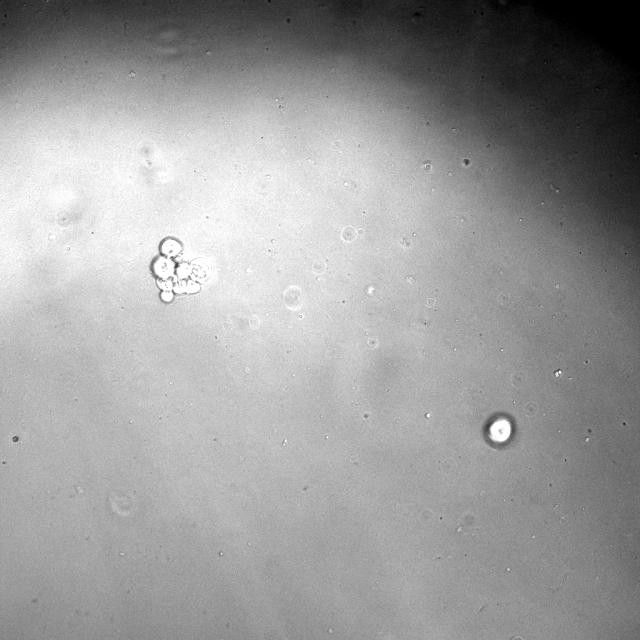organoid: (151, 236, 215, 303), (482, 412, 516, 449)
